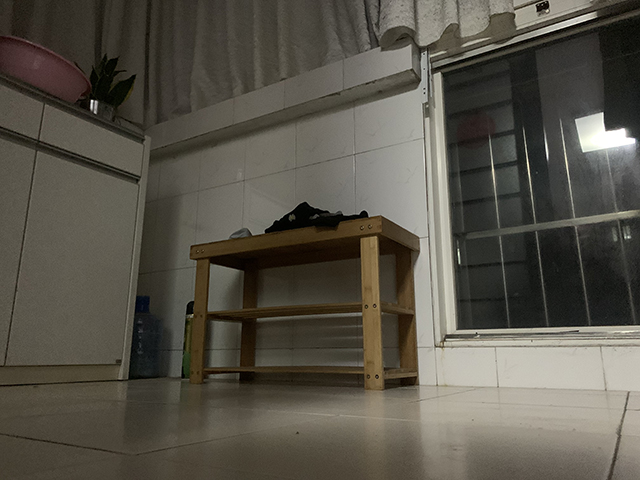cabinet: (1, 69, 153, 387)
